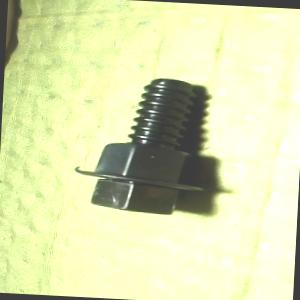parafuso: (70, 72, 213, 216)
